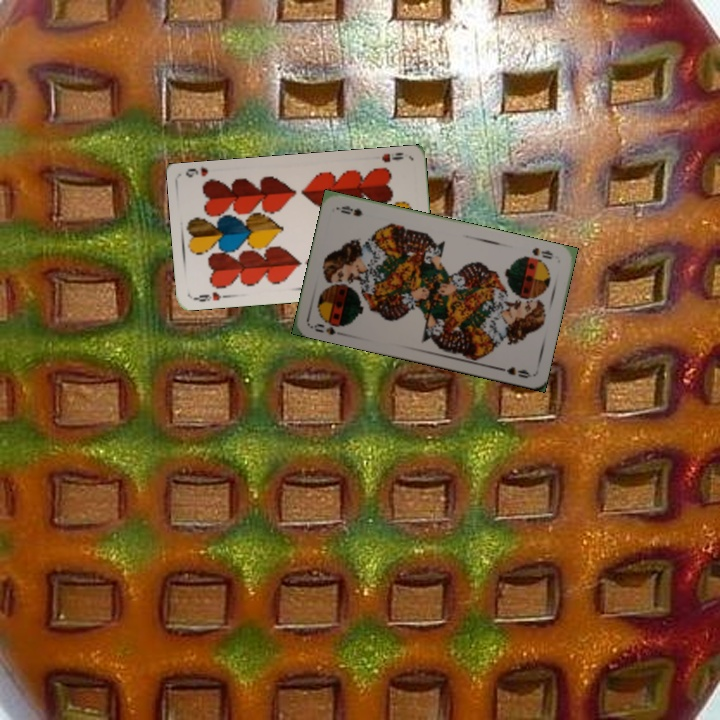H9: (191, 288, 231, 304), (378, 149, 406, 165)
SO: (308, 316, 350, 339), (528, 243, 555, 262)
